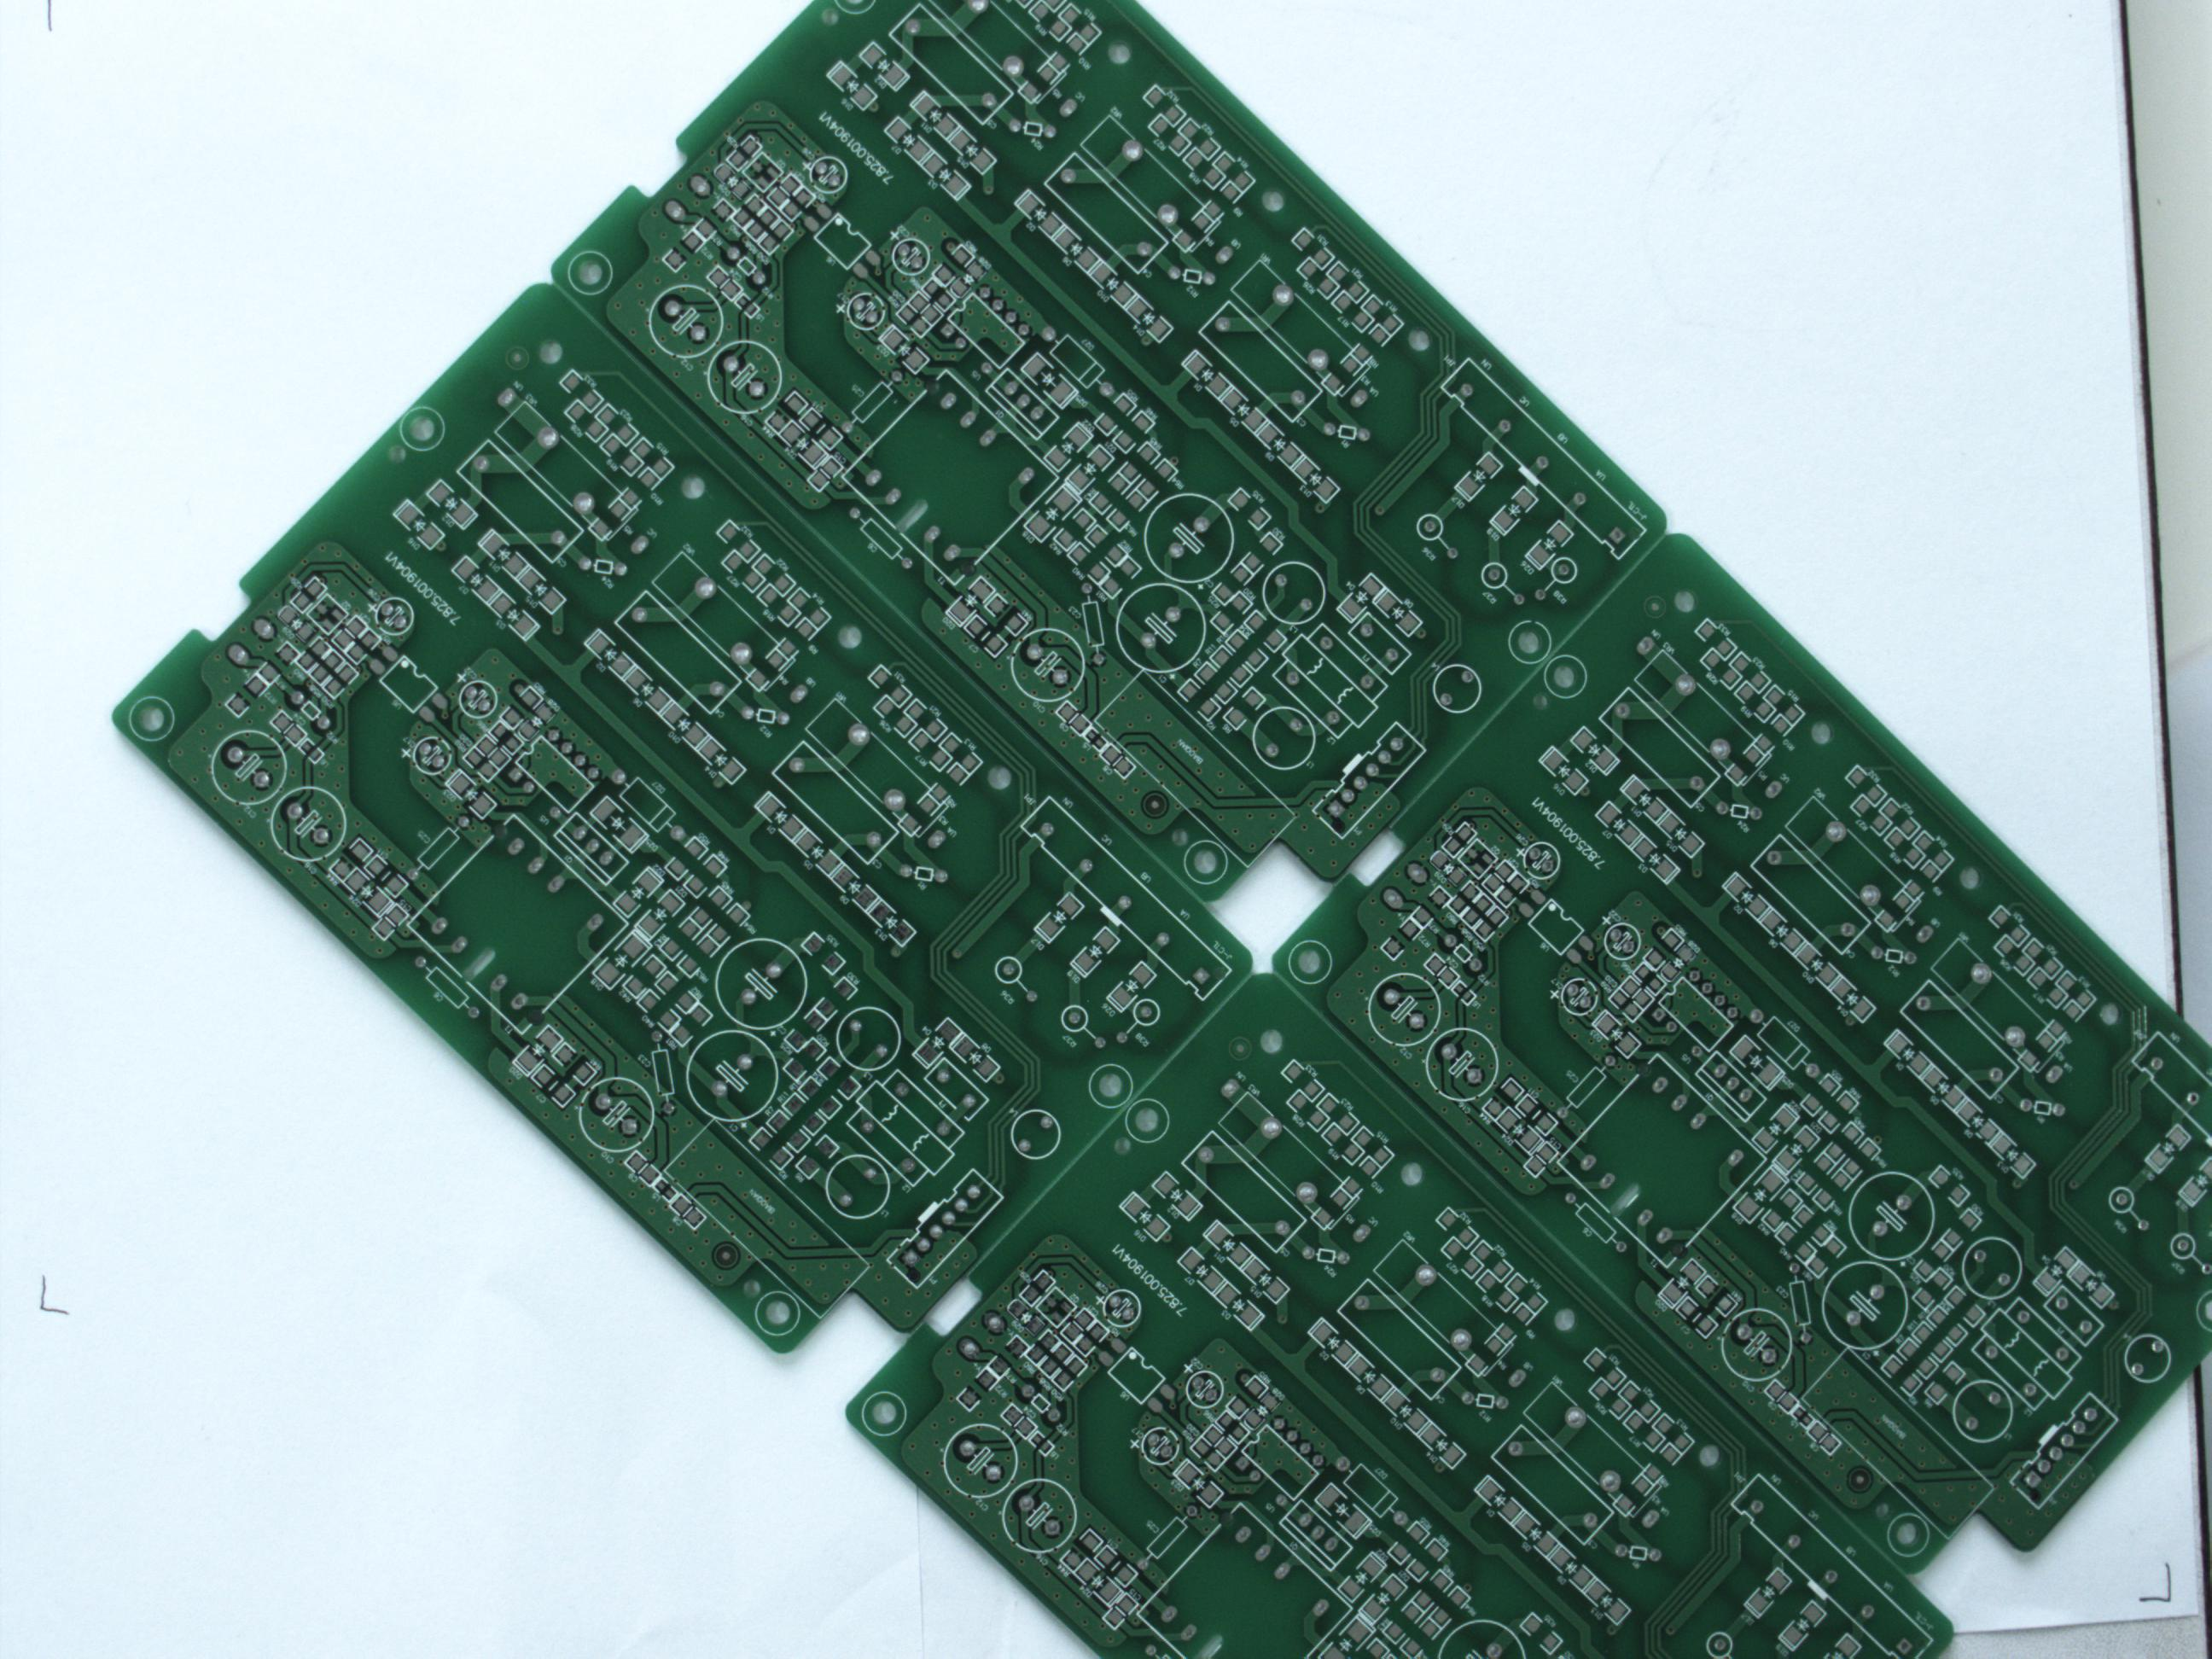ma: (395, 404, 449, 455), (125, 690, 176, 742), (1183, 838, 1233, 887), (1122, 1096, 1172, 1145), (1085, 1063, 1134, 1112), (752, 1291, 801, 1340), (564, 249, 615, 296), (1505, 617, 1554, 664), (860, 1391, 906, 1441), (1287, 938, 1332, 986), (1545, 652, 1588, 702), (1886, 1513, 1930, 1560)
